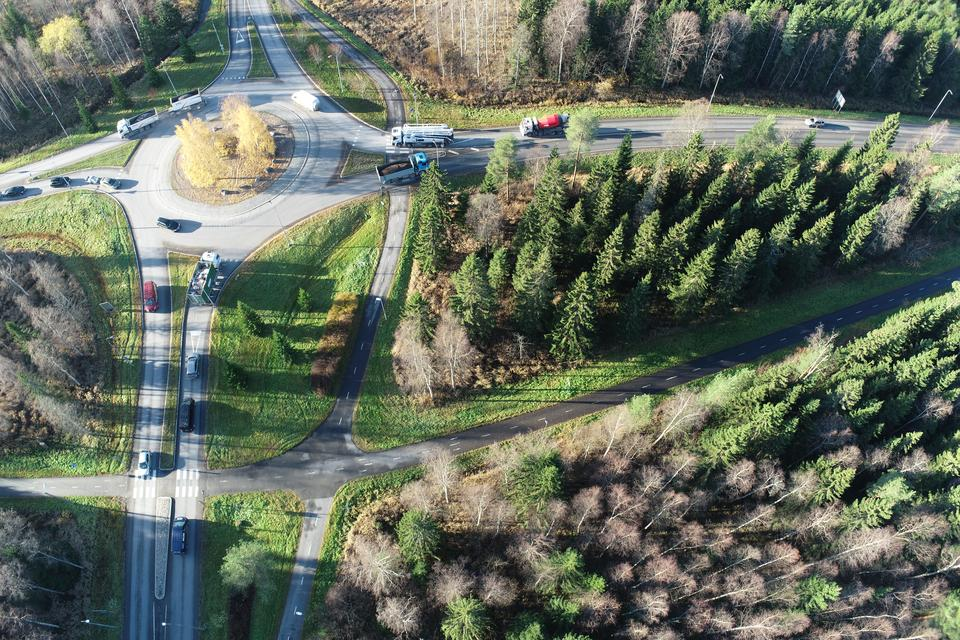intersection: (100, 443, 236, 524), (375, 106, 459, 228)
roundabout: (65, 51, 369, 305)
